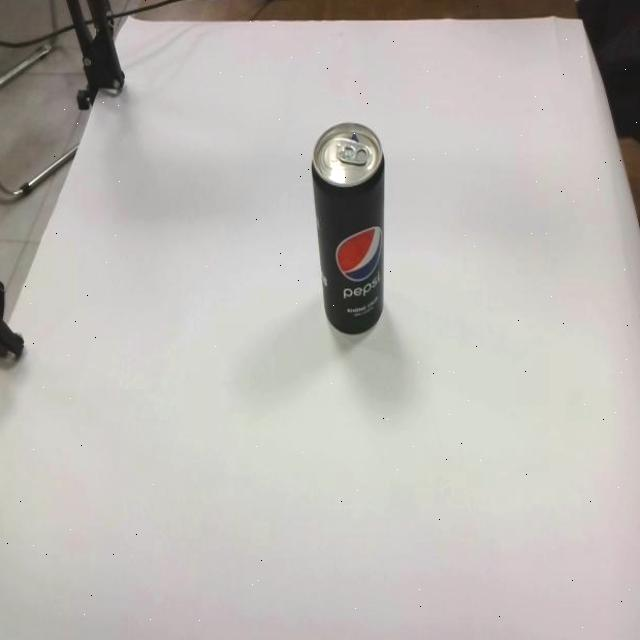debris: (311, 122, 386, 334)
